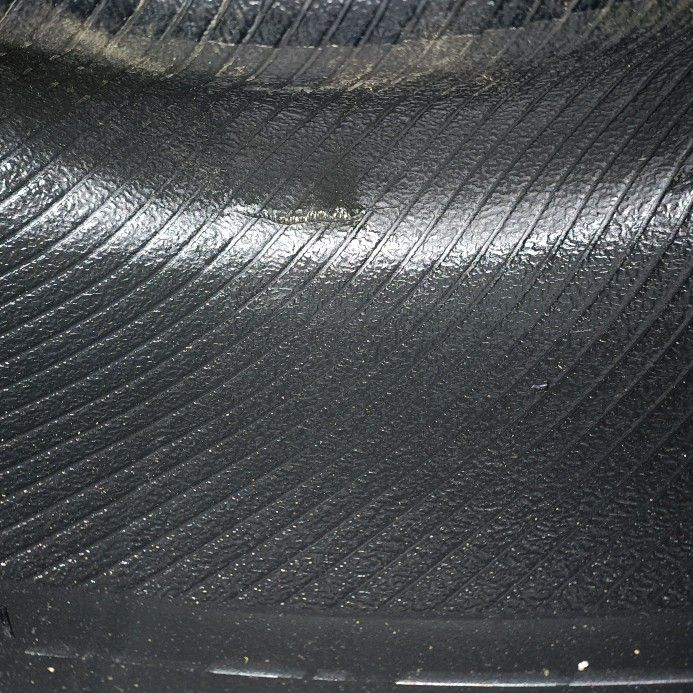CBU: (218, 202, 389, 234)
